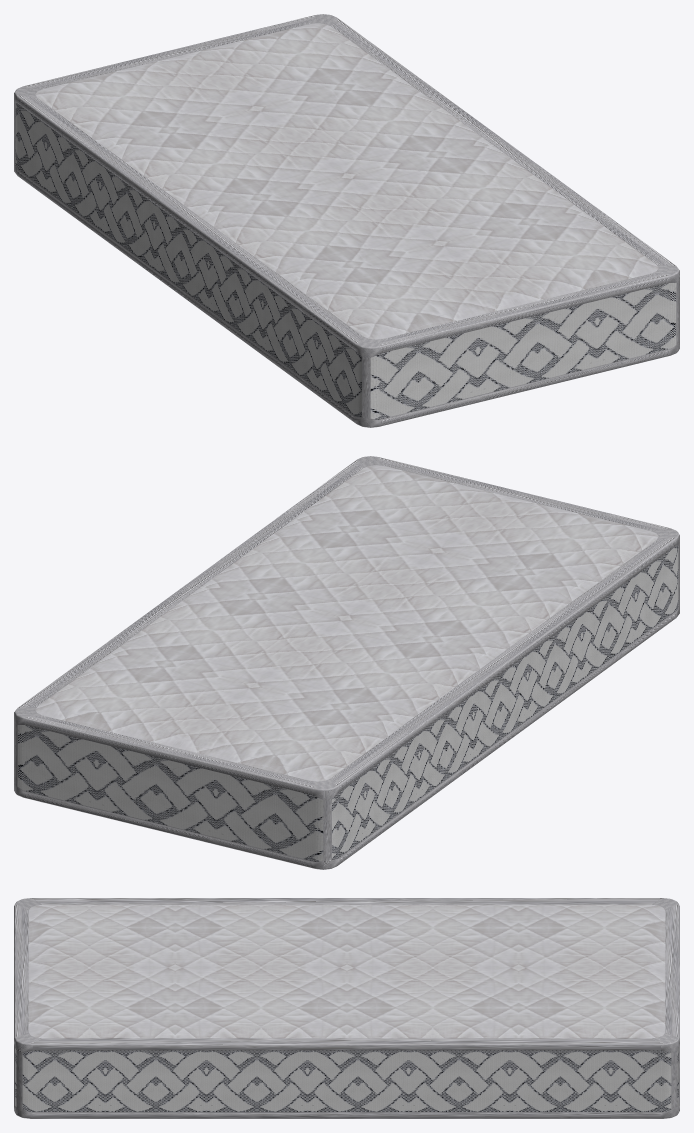
Rendered from MattressATwin.fbx.
The picture shows the model from 3 angles, top to bottom: view 1: azimuth 30°, elevation 25°; view 2: azimuth 150°, elevation 25°; view 3: azimuth 270°, elevation 25°; orthographic projection. The views are drawn at different scales.
Visible parts, largest first — view 1: MattressATwin; view 2: MattressATwin; view 3: MattressATwin.
Part boxes in pixels (x1,y1,x2,y2): MattressATwin: (14,14,679,427); MattressATwin: (14,456,679,869); MattressATwin: (14,898,679,1118).
Bounding box in the file's own units: 116 × 30.62 × 222.
